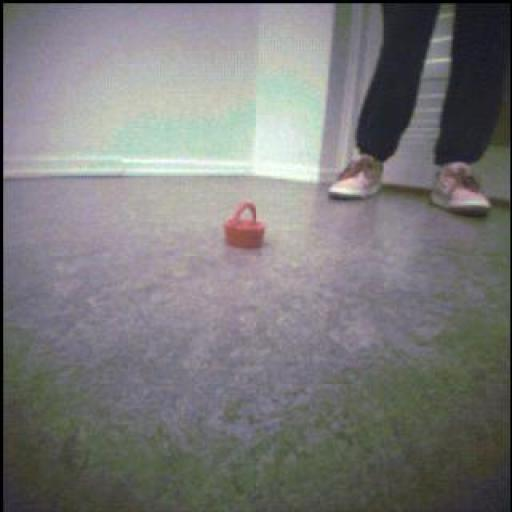Bucket: (225, 204, 267, 249)
